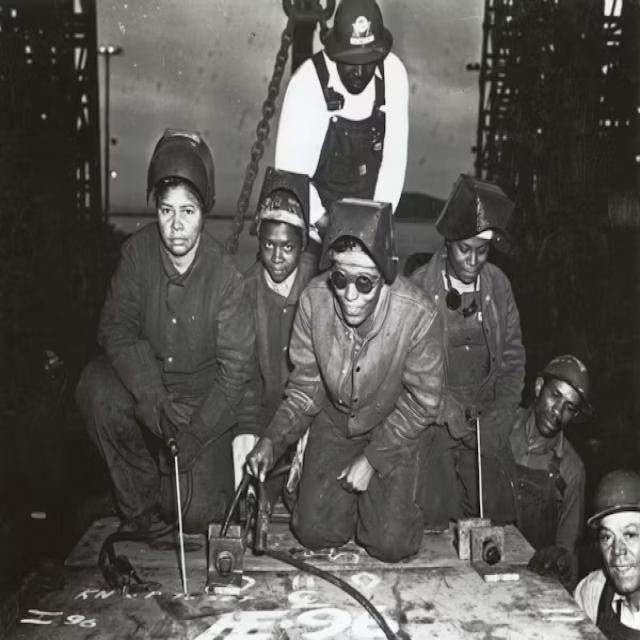helmet_lifted: (434, 166, 520, 310), (147, 129, 224, 273), (319, 192, 402, 325), (251, 166, 315, 290)
